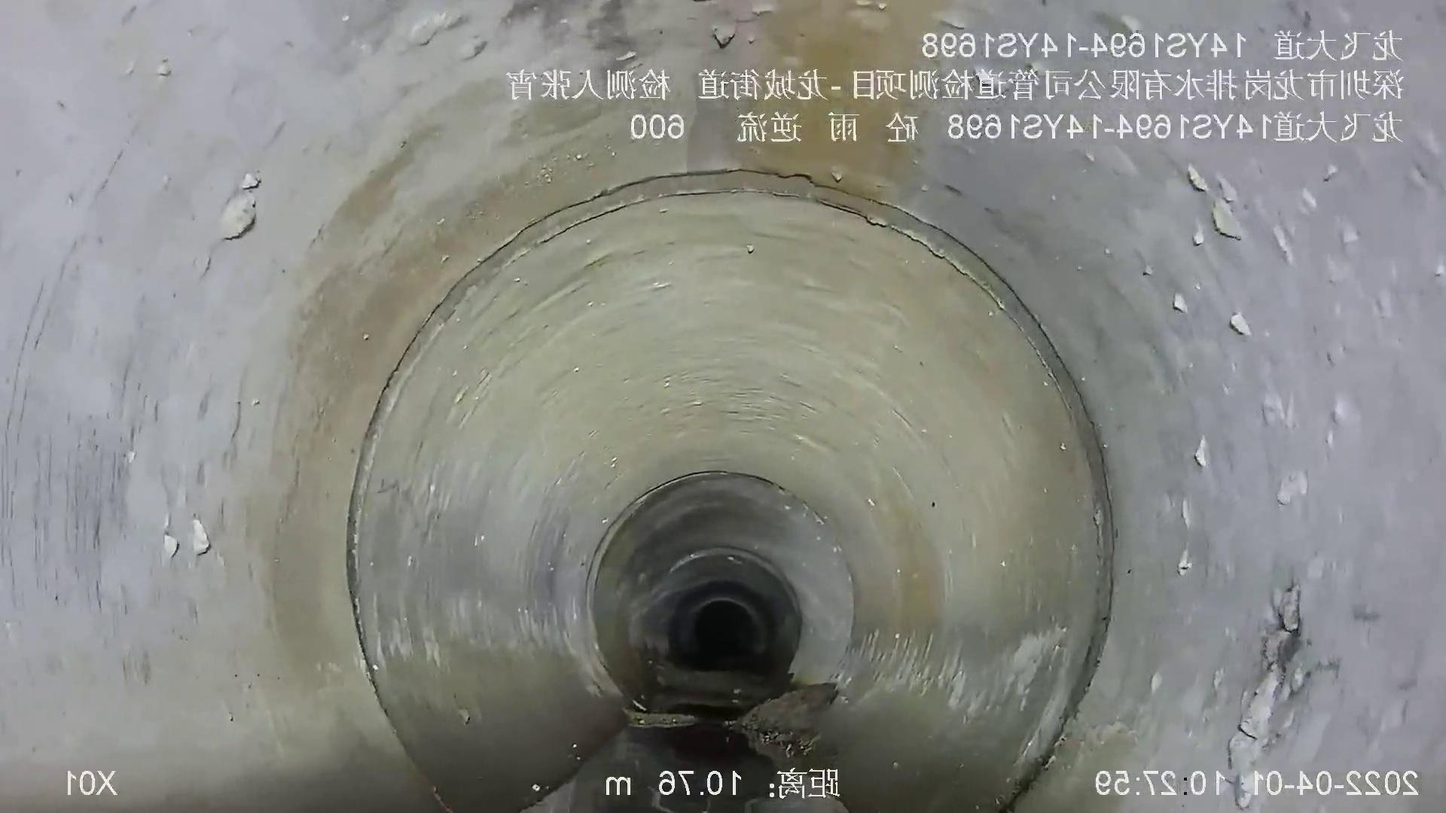CJ: (721, 683, 837, 762), (630, 709, 712, 729)
CKTJ: (347, 169, 1116, 812), (585, 470, 779, 636), (670, 547, 801, 611)
